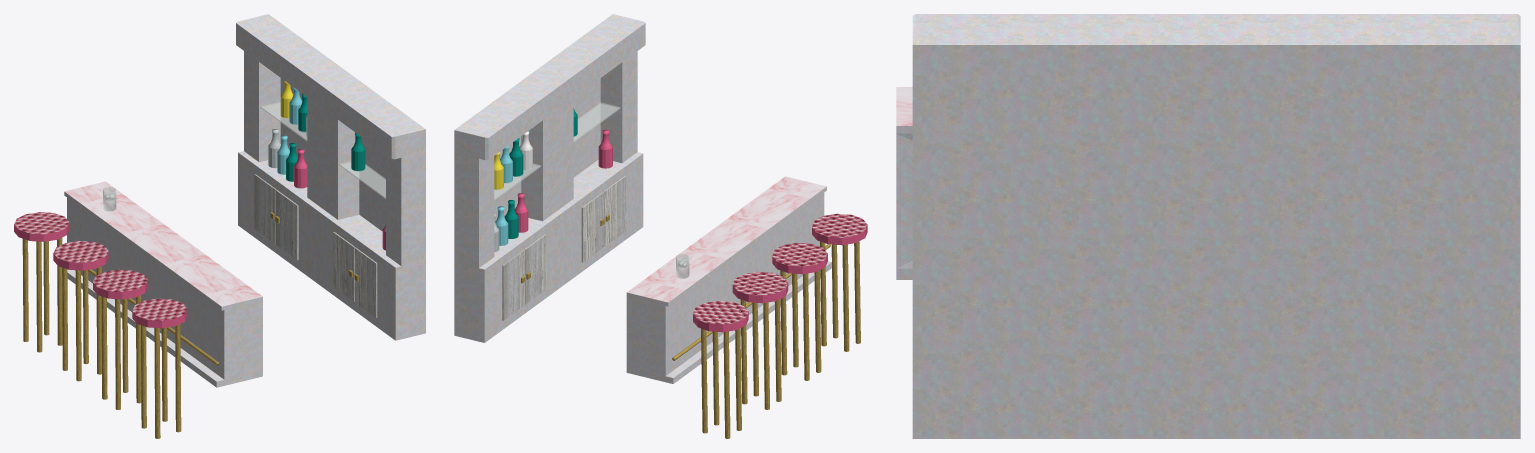
Rendered from bar.obj.
The picture shows the model from 3 angles, left to right: view 1: azimuth 30°, elevation 25°; view 2: azimuth 150°, elevation 25°; view 3: azimuth 270°, elevation 25°; orthographic projection. The views are drawn at different scales.
Parts seen in each view (by area): view 1: mesh2129603691, bar_mesh862038241, mesh584418438, bar.001_mesh862038241.001, mesh1462752248, mesh584418438.002, mesh584418438.001, mesh1232155188, mesh149170008, mesh287973387, mesh845859393, mesh1225928016; view 2: mesh2129603691, bar_mesh862038241, mesh584418438, bar.001_mesh862038241.001, mesh1462752248, mesh584418438.002, mesh584418438.001, mesh1232155188, mesh149170008, mesh845859393, mesh287973387, mesh1225928016; view 3: mesh2129603691, bar_mesh862038241, bar.001_mesh862038241.001.
Boxes of the visible parts, x1=… form: mesh2129603691: x1=236, y1=14, x2=425, y2=340; bar_mesh862038241: x1=64, y1=192, x2=262, y2=387; mesh584418438: x1=22, y1=237, x2=181, y2=438; bar.001_mesh862038241.001: x1=64, y1=181, x2=262, y2=306; mesh1462752248: x1=254, y1=174, x2=377, y2=317; mesh584418438.002: x1=14, y1=212, x2=187, y2=320; mesh584418438.001: x1=14, y1=222, x2=187, y2=328; mesh1232155188: x1=260, y1=102, x2=385, y2=198; mesh149170008: x1=286, y1=94, x2=365, y2=181; mesh287973387: x1=277, y1=87, x2=302, y2=174; mesh845859393: x1=294, y1=149, x2=385, y2=250; mesh1225928016: x1=268, y1=115, x2=307, y2=168; mesh2129603691: x1=454, y1=14, x2=645, y2=342; bar_mesh862038241: x1=626, y1=187, x2=831, y2=383; mesh584418438: x1=701, y1=241, x2=860, y2=438; bar.001_mesh862038241.001: x1=627, y1=176, x2=826, y2=302; mesh1462752248: x1=502, y1=176, x2=625, y2=320; mesh584418438.002: x1=693, y1=213, x2=867, y2=324; mesh584418438.001: x1=693, y1=225, x2=867, y2=332; mesh1232155188: x1=494, y1=102, x2=620, y2=200; mesh149170008: x1=504, y1=99, x2=577, y2=238; mesh845859393: x1=514, y1=129, x2=612, y2=232; mesh287973387: x1=495, y1=145, x2=512, y2=245; mesh1225928016: x1=494, y1=131, x2=532, y2=252; mesh2129603691: x1=912, y1=14, x2=1520, y2=438; bar_mesh862038241: x1=896, y1=126, x2=912, y2=279; bar.001_mesh862038241.001: x1=896, y1=87, x2=912, y2=125.
Bounding box in the file's own units: 0.0791 × 0.0715 × 0.0821.
Materials: 15 (7 with a texture image).
